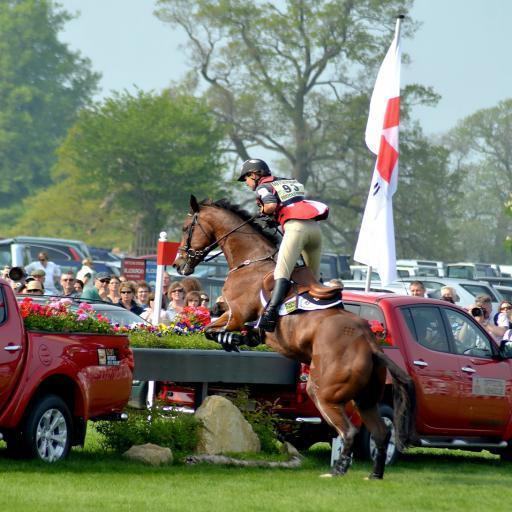horse: (171, 192, 416, 478)
